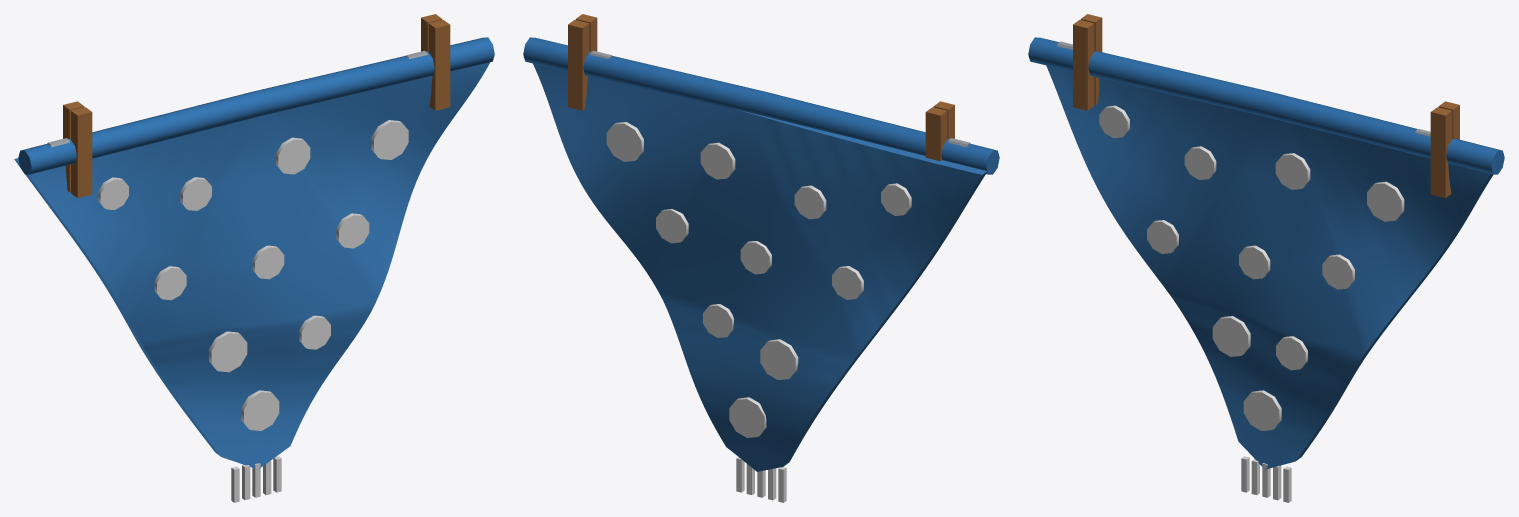
Rendered from cloth_scarf.glb.
3 renders of one model, left to right at view 1: azimuth 30°, elevation 25°; view 2: azimuth 150°, elevation 25°; view 3: azimuth 330°, elevation 25°, orthographic.
Parts seen in each view (by area): view 1: pv3_cloth_scarf; view 2: pv3_cloth_scarf; view 3: pv3_cloth_scarf.
Boxes of the visible parts, x1,y1,x2,y2 form: pv3_cloth_scarf: (14,14,494,502); pv3_cloth_scarf: (523,14,999,502); pv3_cloth_scarf: (1028,14,1504,502).
Size of the model in its own units: 0.4402 by 0.3915 by 0.059.
